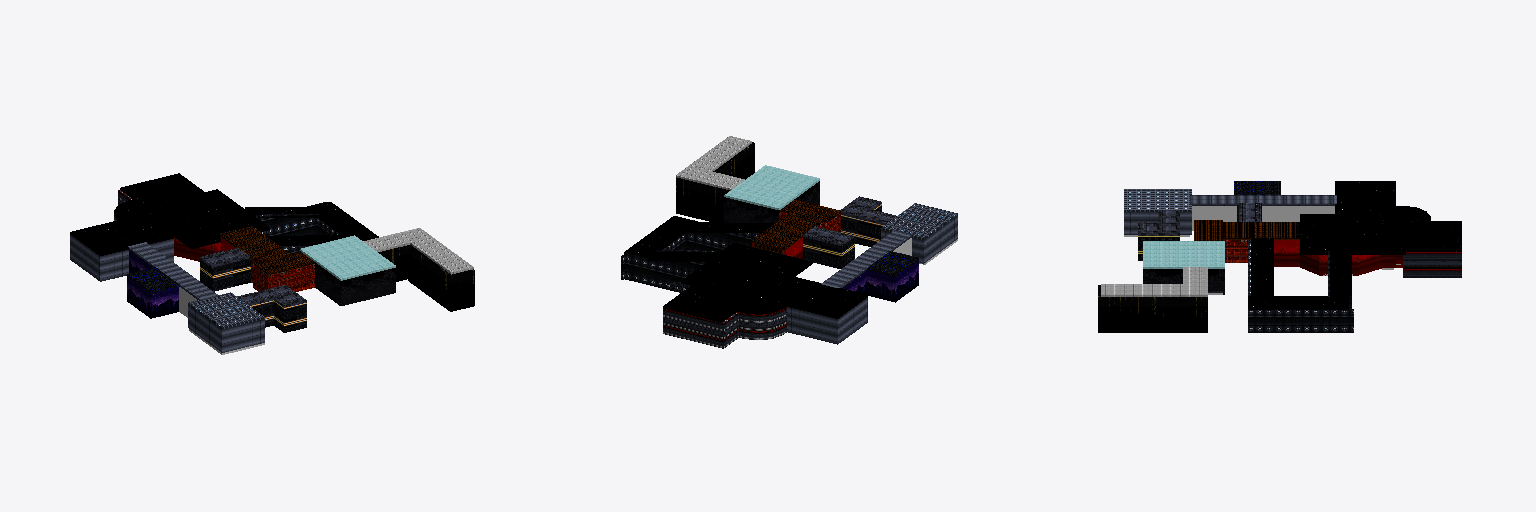
3 views of the same model, side by side, from view 1: azimuth 30°, elevation 25°; view 2: azimuth 150°, elevation 25°; view 3: azimuth 270°, elevation 25° (orthographic).
Parts seen in each view (by area): view 1: entity0_brush114, entity0_brush134, entity0_brush93, entity0_brush113, entity0_brush88, entity0_brush126, entity0_brush104, entity0_brush130, entity0_brush118, entity0_brush137, entity0_brush0, entity0_brush124 (+18 smaller); view 2: entity0_brush114, entity0_brush134, entity0_brush113, entity0_brush90, entity0_brush50, entity0_brush126, entity0_brush130, entity0_brush118, entity0_brush39, entity0_brush104, entity0_brush69, entity0_brush77 (+16 smaller); view 3: entity0_brush114, entity0_brush92, entity0_brush72, entity0_brush134, entity0_brush113, entity0_brush4, entity0_brush126, entity0_brush51, entity0_brush118, entity0_brush130, entity0_brush127, entity0_brush104 (+11 smaller).
Part boxes in pixels (left/top/right/bottom): entity0_brush114: left=138, top=189, right=269, bottom=248; entity0_brush134: left=300, top=235, right=395, bottom=280; entity0_brush93: left=408, top=245, right=450, bottom=310; entity0_brush113: left=120, top=173, right=203, bottom=206; entity0_brush88: left=340, top=268, right=395, bottom=305; entity0_brush126: left=128, top=242, right=218, bottom=300; entity0_brush104: left=194, top=297, right=264, bottom=329; entity0_brush130: left=220, top=226, right=289, bottom=262; entity0_brush118: left=308, top=202, right=378, bottom=240; entity0_brush137: left=410, top=237, right=473, bottom=274; entity0_brush0: left=221, top=320, right=262, bottom=352; entity0_brush124: left=70, top=225, right=128, bottom=255; entity0_brush114: left=681, top=243, right=812, bottom=301; entity0_brush134: left=724, top=165, right=819, bottom=209; entity0_brush113: left=663, top=286, right=748, bottom=322; entity0_brush90: left=678, top=178, right=729, bottom=222; entity0_brush50: left=665, top=309, right=721, bottom=347; entity0_brush126: left=821, top=230, right=912, bottom=287; entity0_brush130: left=752, top=212, right=822, bottom=250; entity0_brush118: left=624, top=216, right=697, bottom=257; entity0_brush39: left=787, top=307, right=835, bottom=343; entity0_brush104: left=887, top=203, right=957, bottom=234; entity0_brush69: left=647, top=261, right=705, bottom=292; entity0_brush77: left=686, top=233, right=761, bottom=251; entity0_brush114: left=1300, top=214, right=1405, bottom=254; entity0_brush92: left=1101, top=297, right=1207, bottom=332; entity0_brush72: left=1251, top=309, right=1353, bottom=332; entity0_brush134: left=1143, top=241, right=1224, bottom=268; entity0_brush113: left=1406, top=221, right=1461, bottom=251; entity0_brush4: left=1192, top=206, right=1334, bottom=230; entity0_brush126: left=1190, top=195, right=1336, bottom=205; entity0_brush51: left=1403, top=252, right=1461, bottom=277; entity0_brush118: left=1248, top=296, right=1348, bottom=309; entity0_brush130: left=1223, top=222, right=1299, bottom=239; entity0_brush127: left=1251, top=238, right=1273, bottom=295; entity0_brush104: left=1124, top=189, right=1179, bottom=211.
Bounding box in the file's own units: 2016 × 352 × 2480.
Materials: 40 (36 with a texture image).